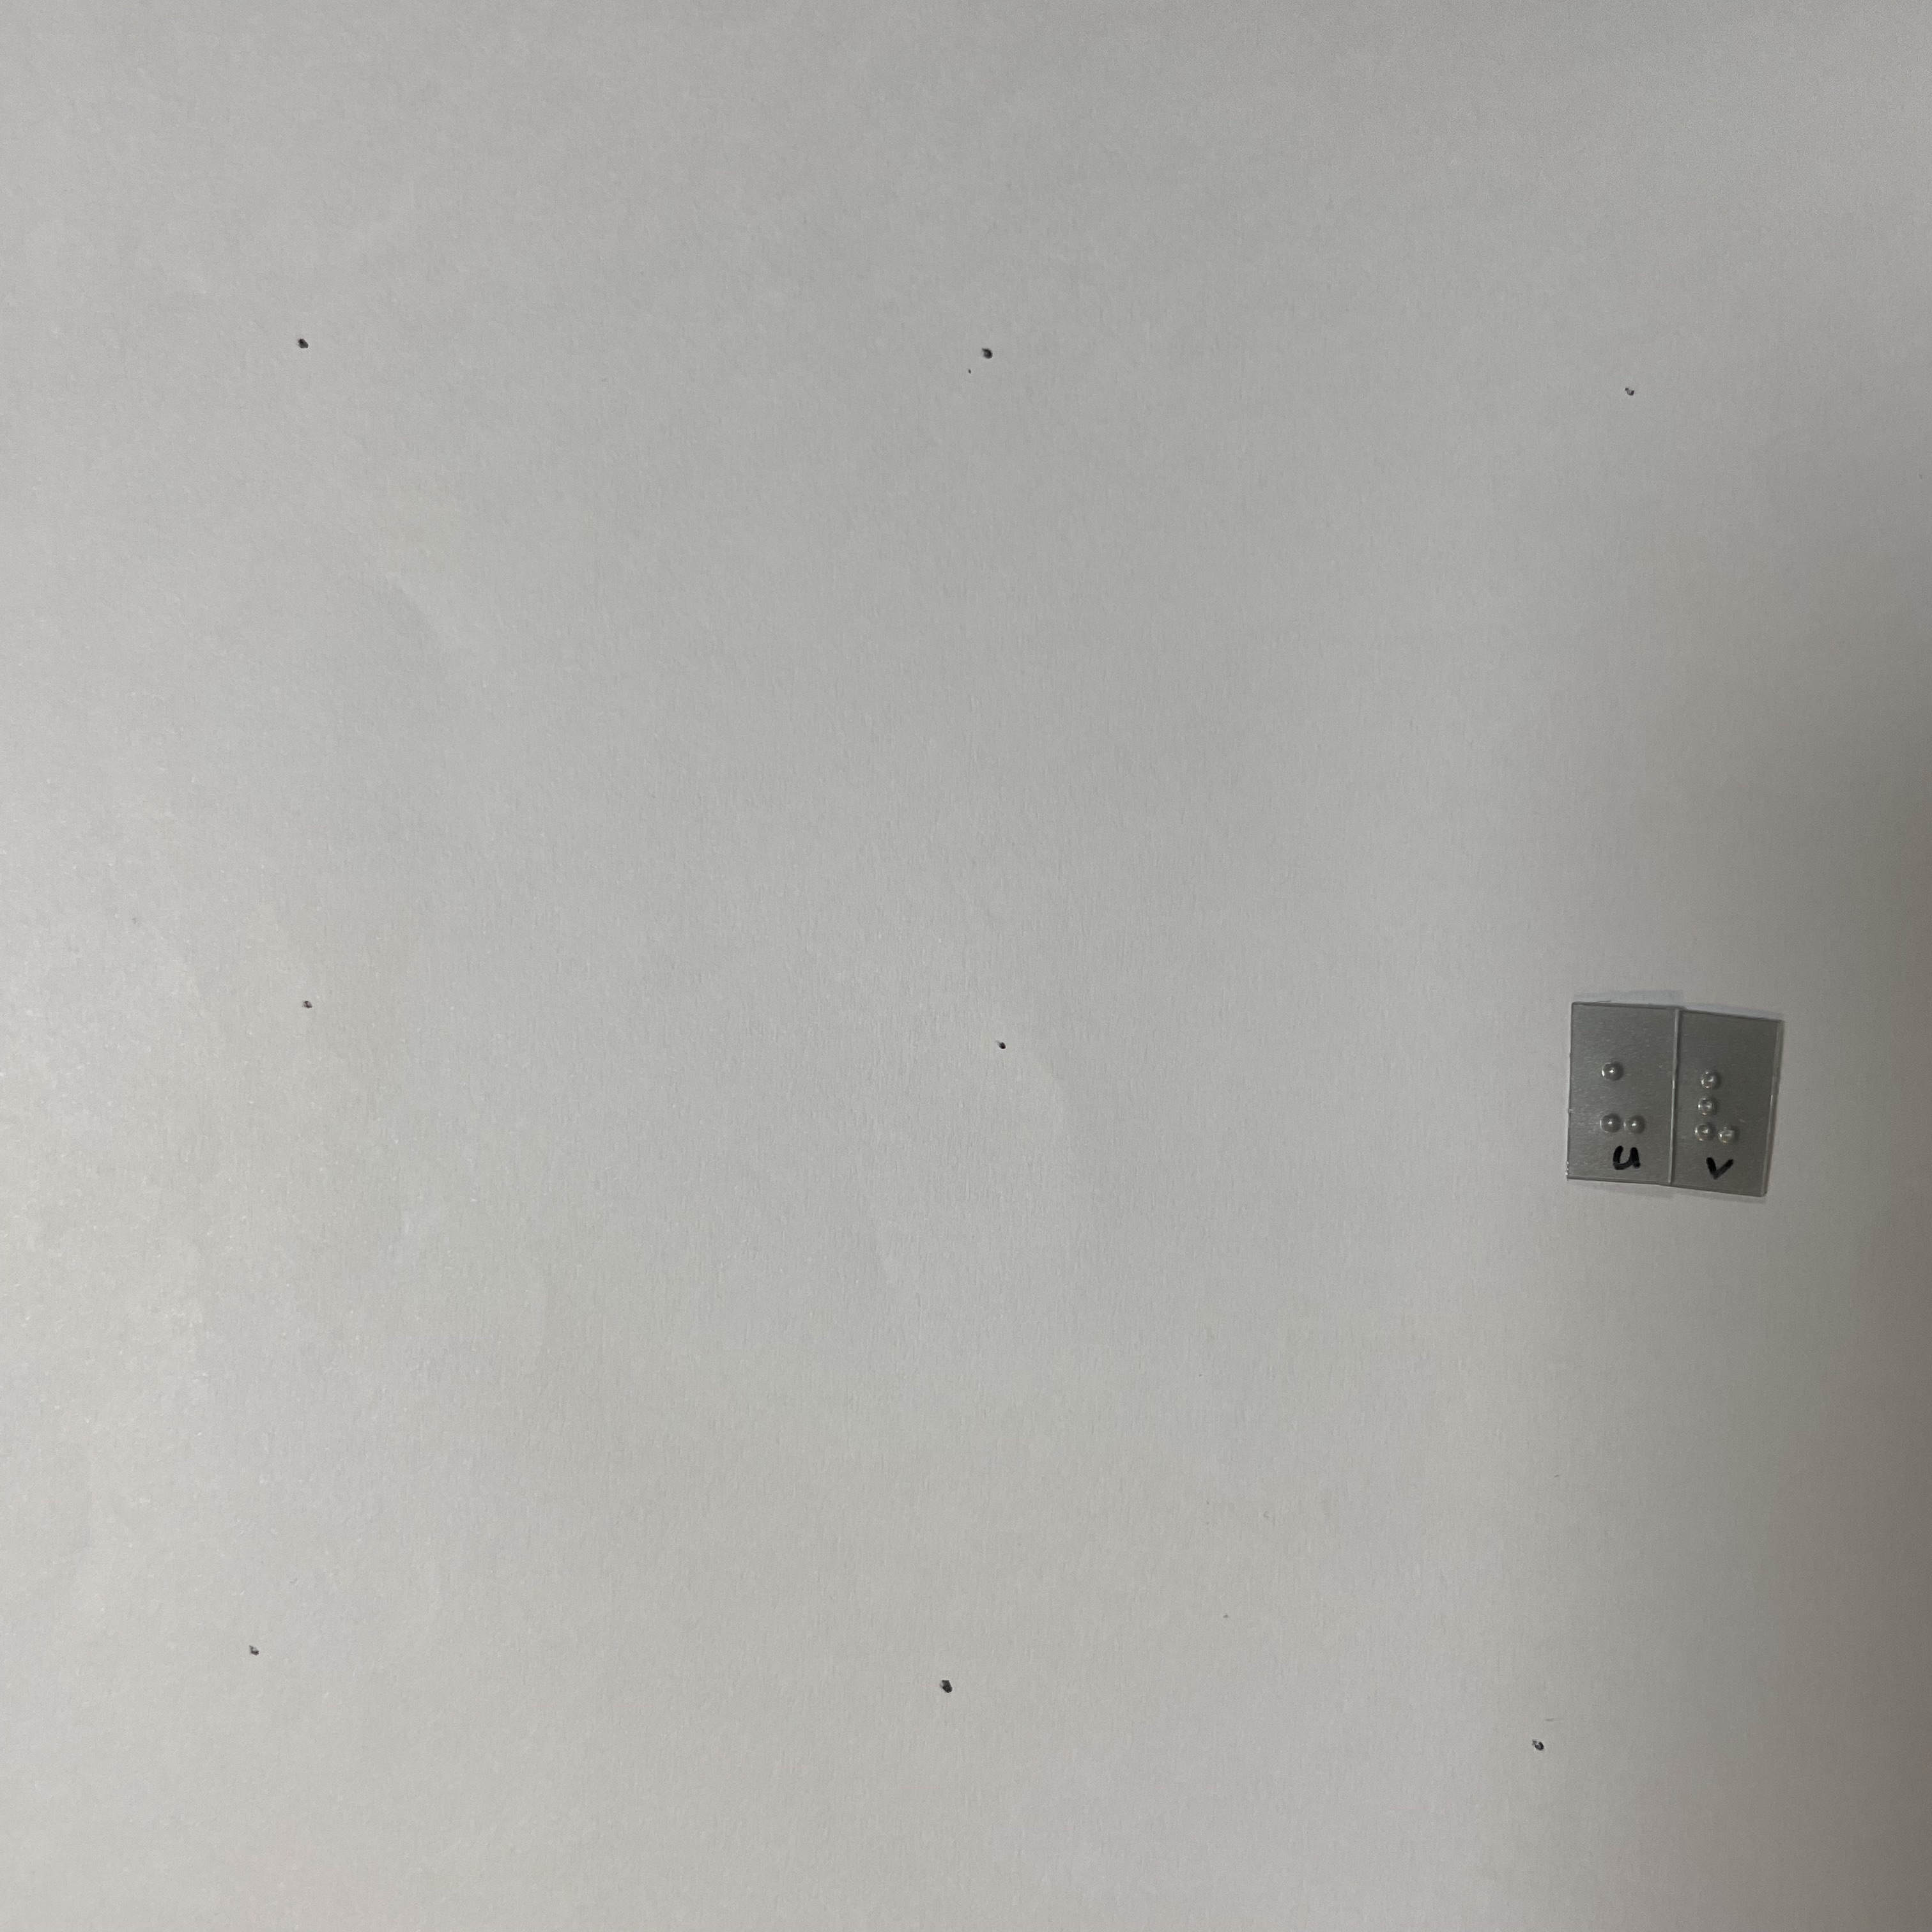u: (1593, 1046, 1659, 1141)
v: (1687, 1062, 1756, 1150)
